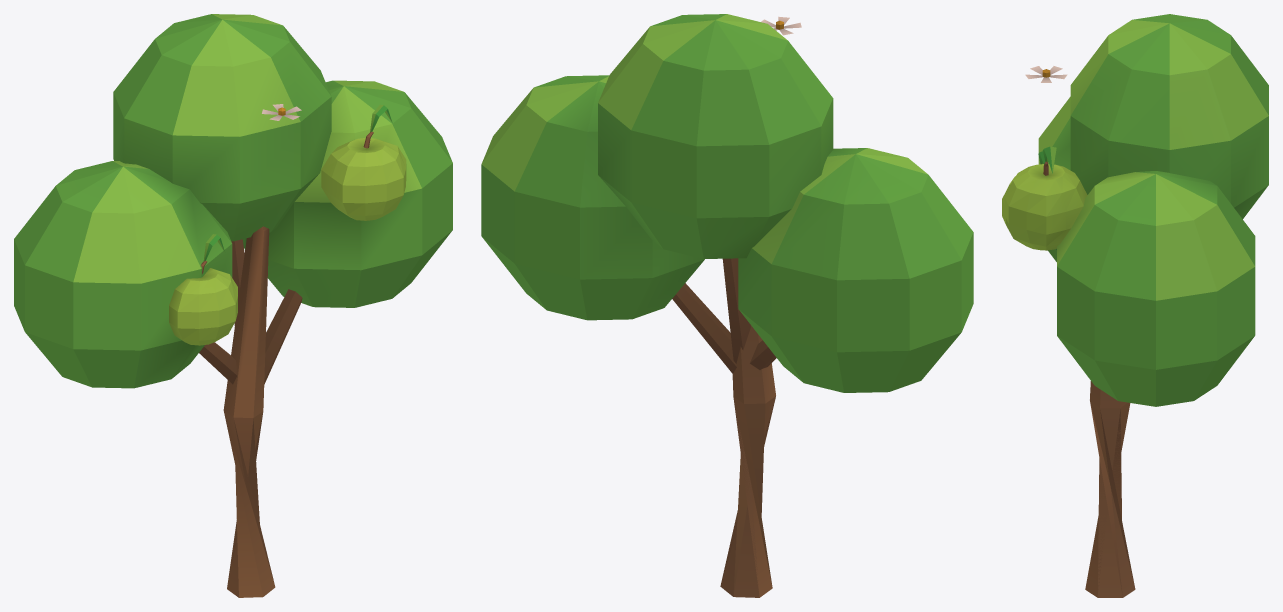
File: Apple_3.glb
The picture shows the model from 3 angles, left to right: view 1: azimuth 30°, elevation 25°; view 2: azimuth 150°, elevation 25°; view 3: azimuth 270°, elevation 25°; orthographic projection. The views are drawn at different scales.
Parts seen in each view (by area): view 1: Apple_3; view 2: Apple_3; view 3: Apple_3.
Boxes of the visible parts, x1,y1,x2,y2 form: Apple_3: (14, 14, 452, 597); Apple_3: (481, 14, 973, 597); Apple_3: (1002, 14, 1268, 597).
Size of the model in its own units: 1.11 by 1.37 by 0.5841.
